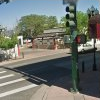crosswalk: (0, 70, 38, 97)
